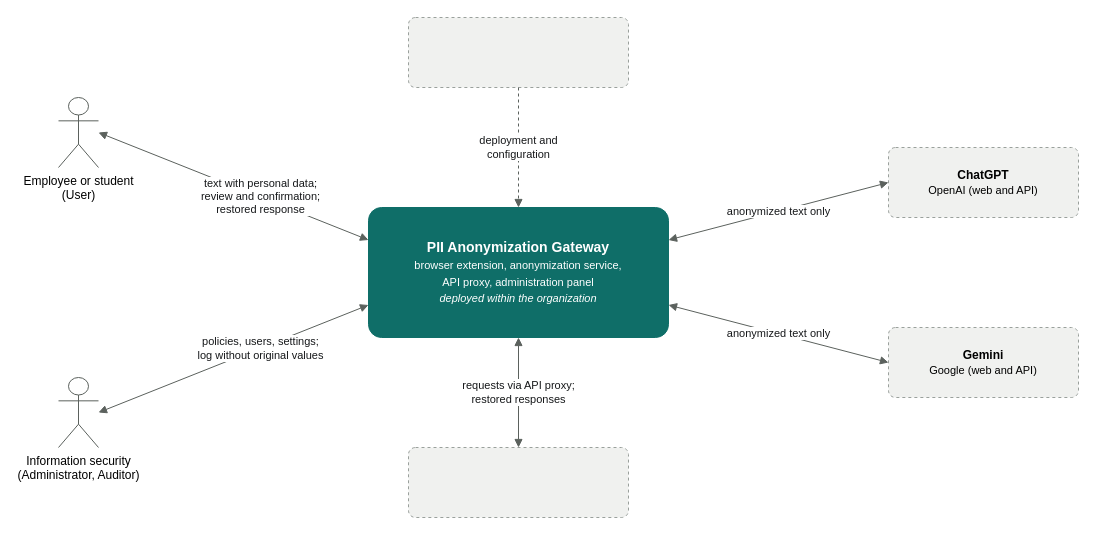
This 1096x535 diagram has some shape labels left out. The shapes that lost their labels are listed below. From the top down, each one's centre as x and y in pixels, then its label:
At [518,52]: "Organization IT deploys the server, installs the extension by browser policy".
At [518,482]: "Internal systems CRM, chatbots (service accounts)".
